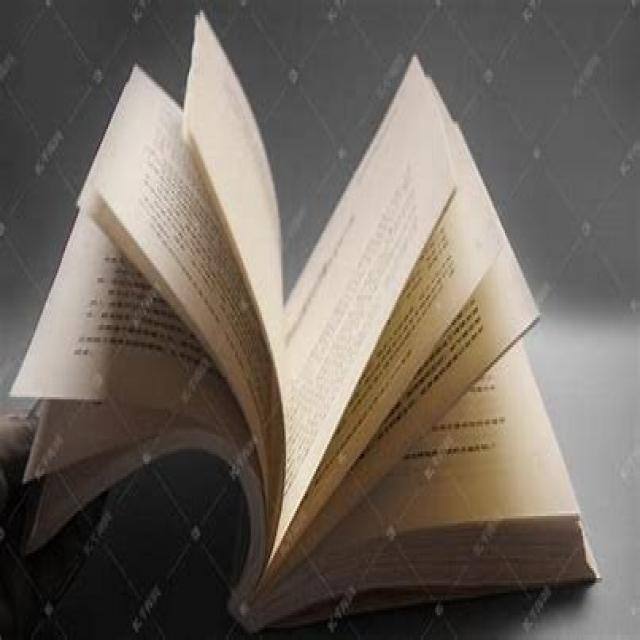pen: (11, 0, 598, 629)
